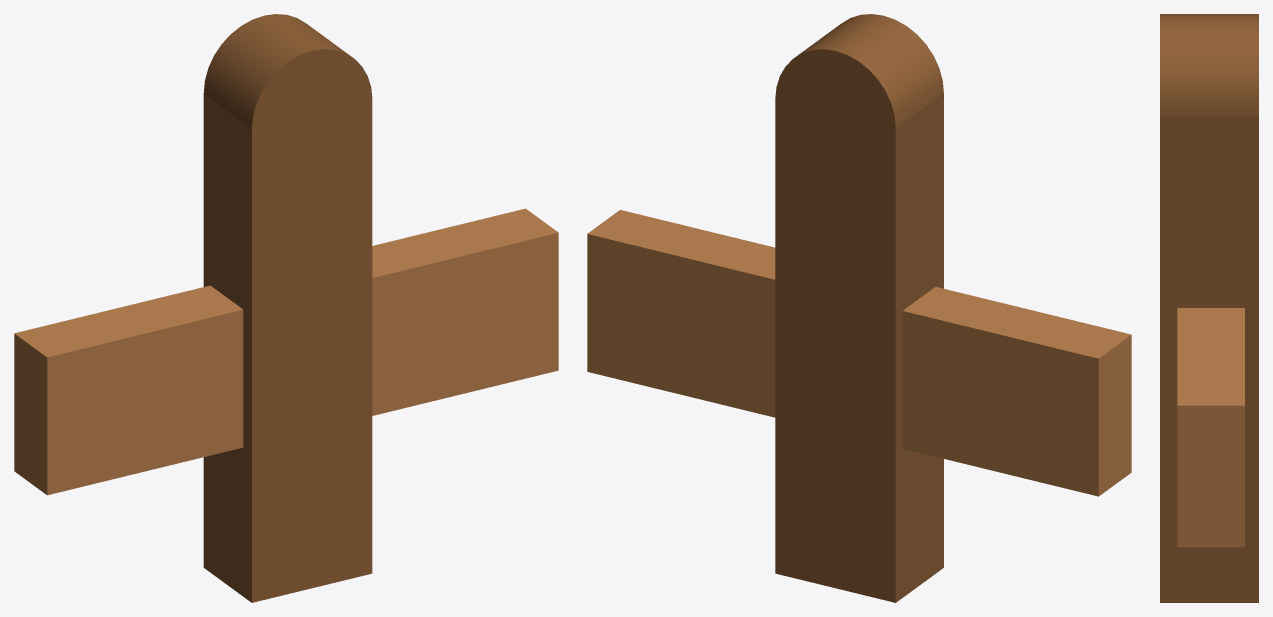
File: Chicken coop fence.fbx
3 renders of one model, left to right at view 1: azimuth 30°, elevation 25°; view 2: azimuth 150°, elevation 25°; view 3: azimuth 270°, elevation 25°, orthographic. The views are drawn at different scales.
Visible parts, largest first — view 1: Chicken coop fence; view 2: Chicken coop fence; view 3: Chicken coop fence.
Part boxes in pixels (x1=…): Chicken coop fence: x1=14, y1=14, x2=558, y2=602; Chicken coop fence: x1=587, y1=14, x2=1131, y2=602; Chicken coop fence: x1=1160, y1=14, x2=1258, y2=602.
Bounding box in the file's own units: 0.813 × 0.8161 × 0.1326.
